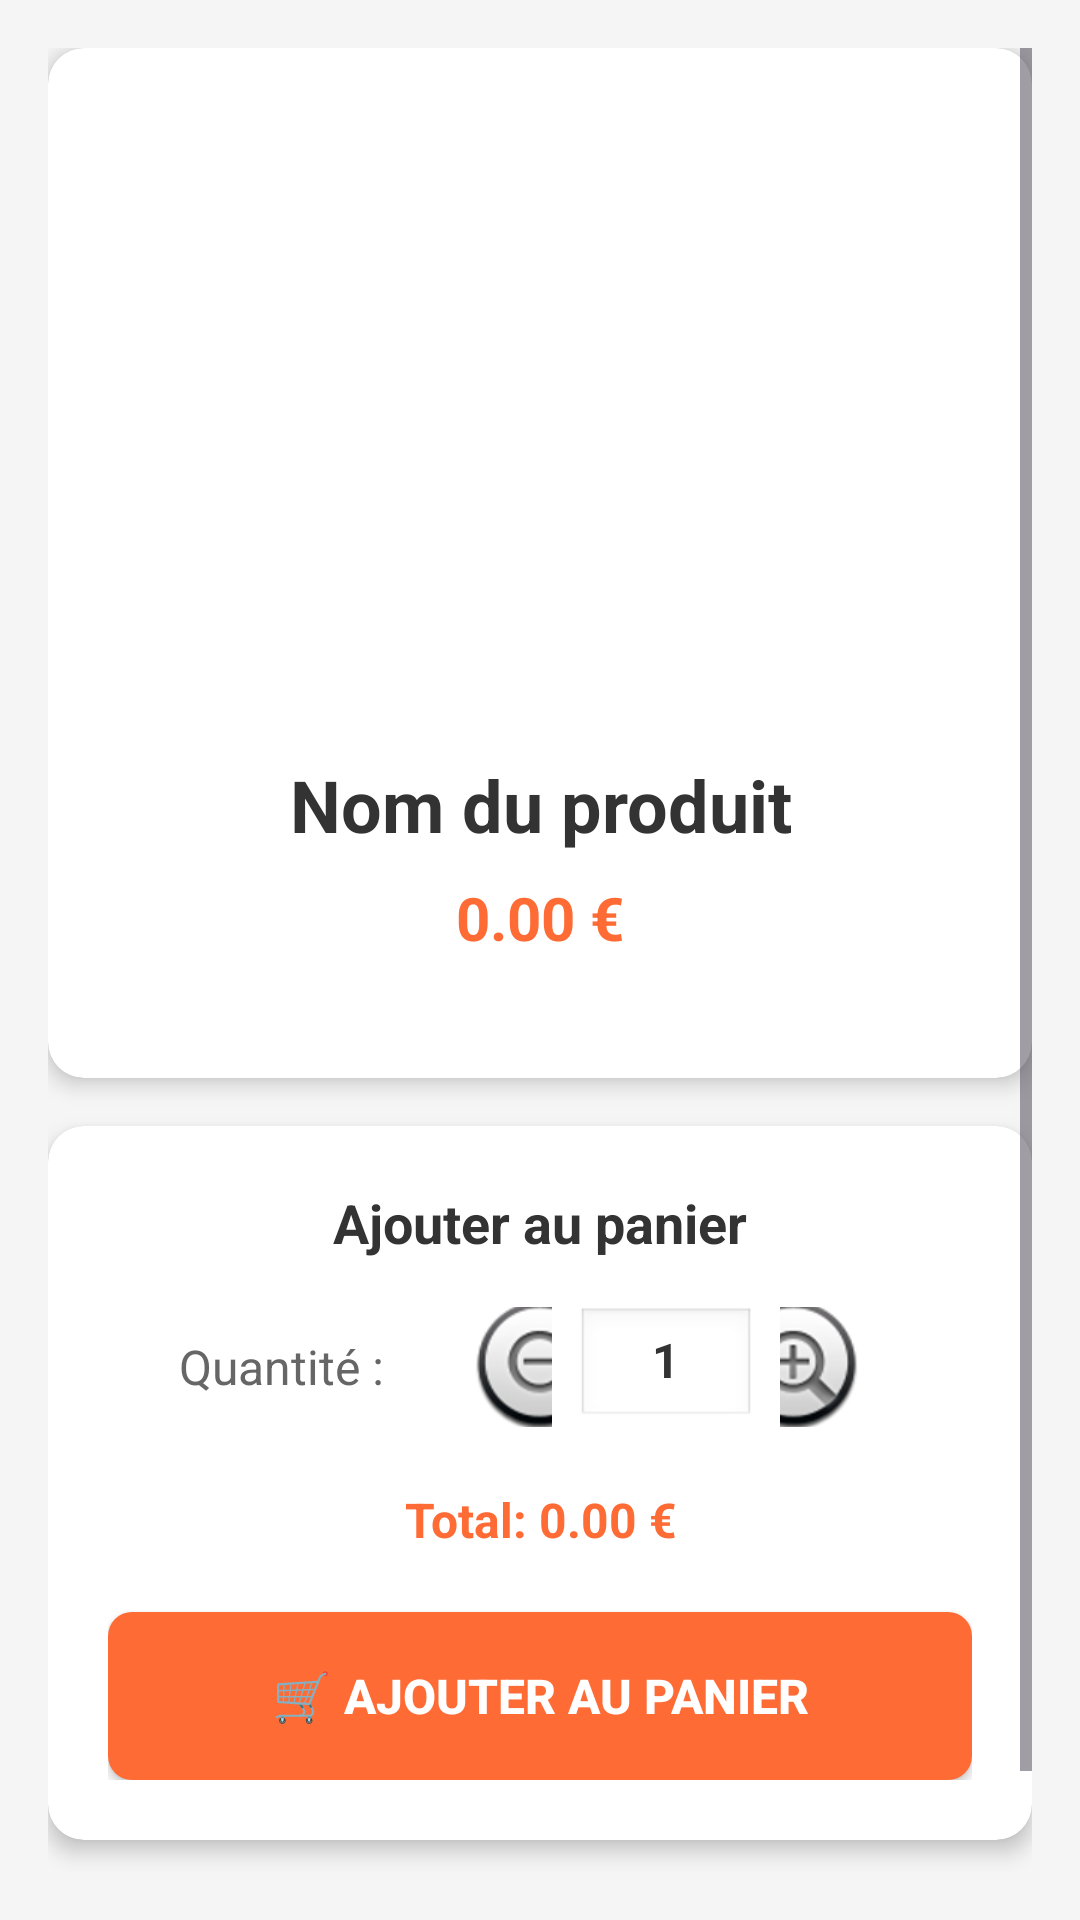

Locate icon controls on the screen. Image size 1080 × 1920, boxes as (x1, y1, x2, y2).
Augmenter quantité: (780, 1307, 857, 1427)
